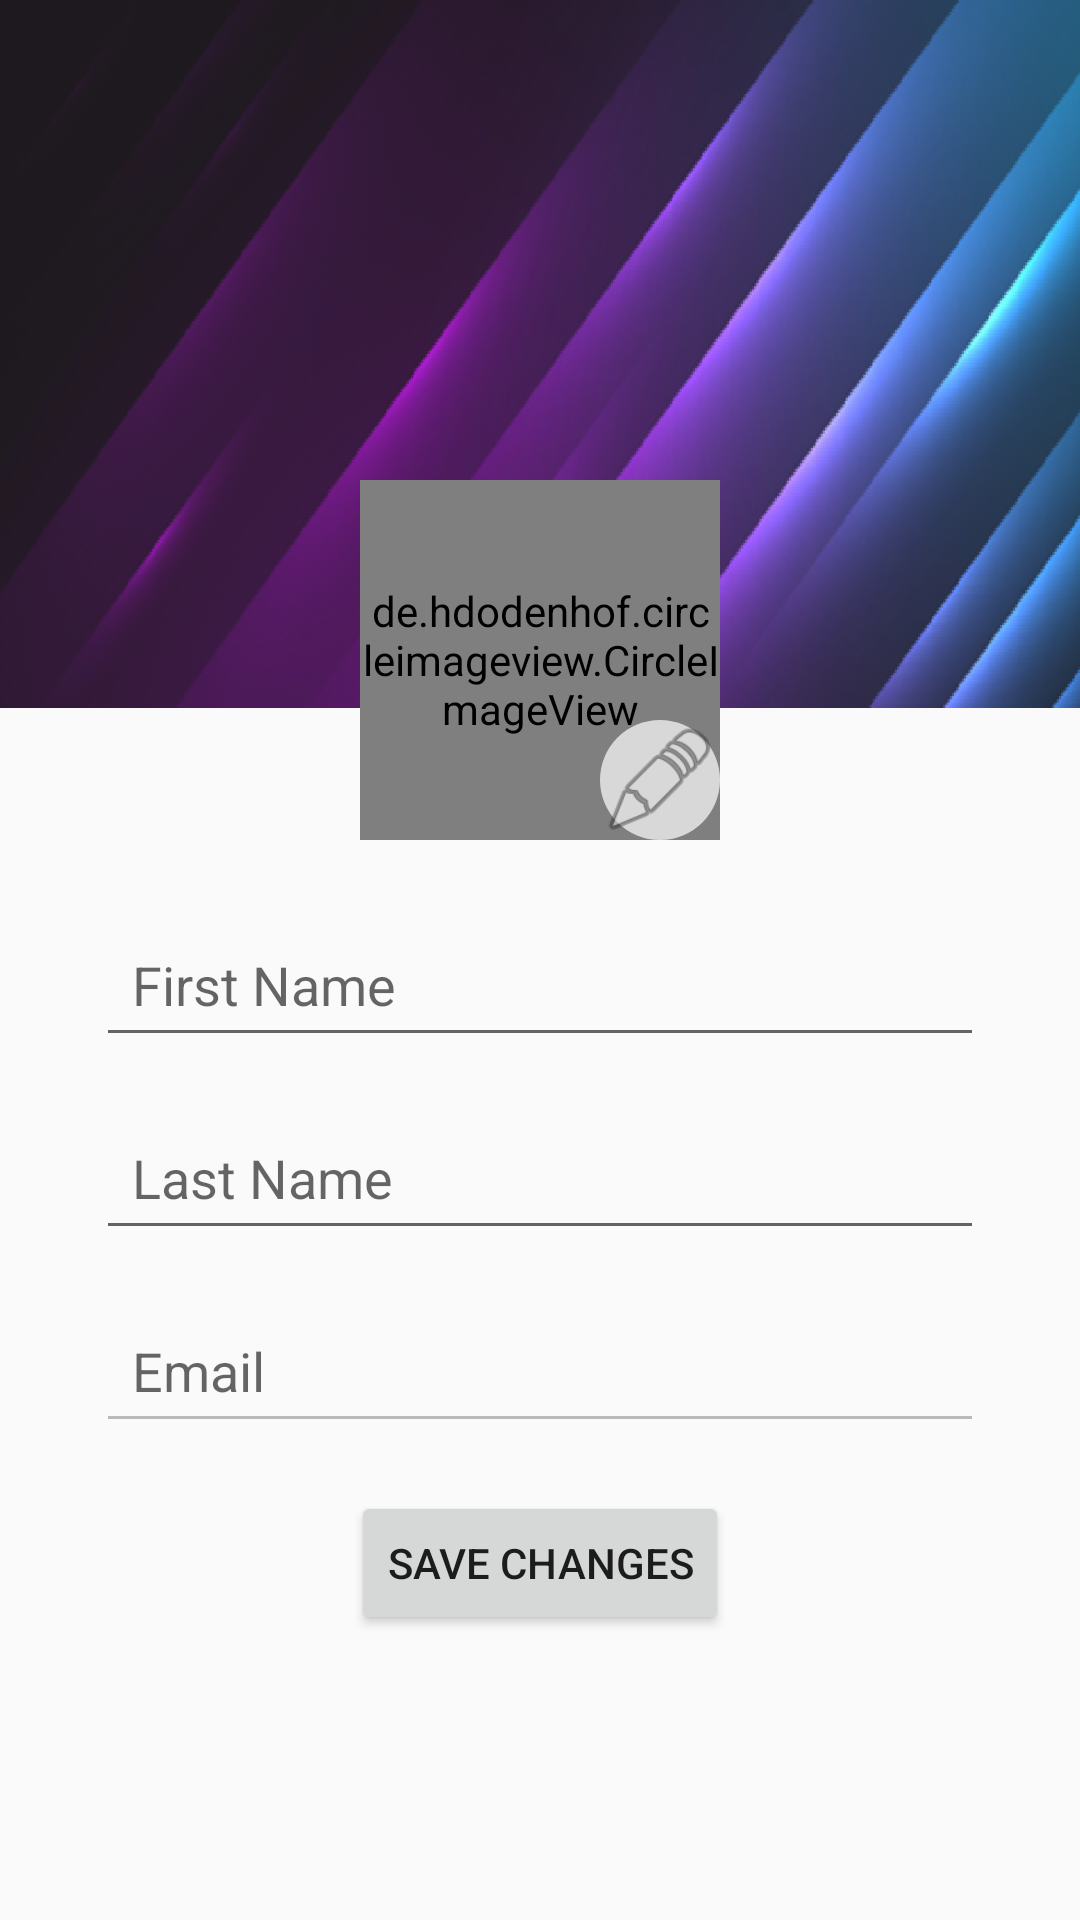

Icon click points for this 1080×1920 phone screenshot, format (x,y):
edit: (660,780)
